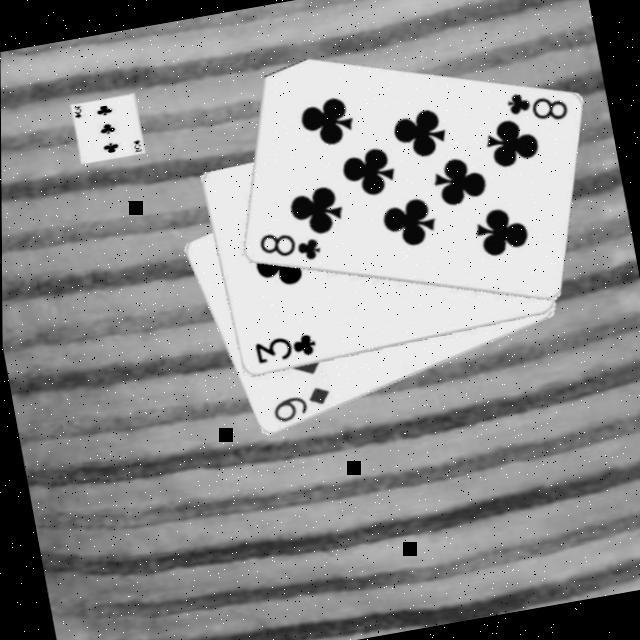3C: (248, 328, 318, 367)
8C: (252, 220, 324, 272), (499, 80, 571, 131)
9D: (264, 381, 333, 426)
